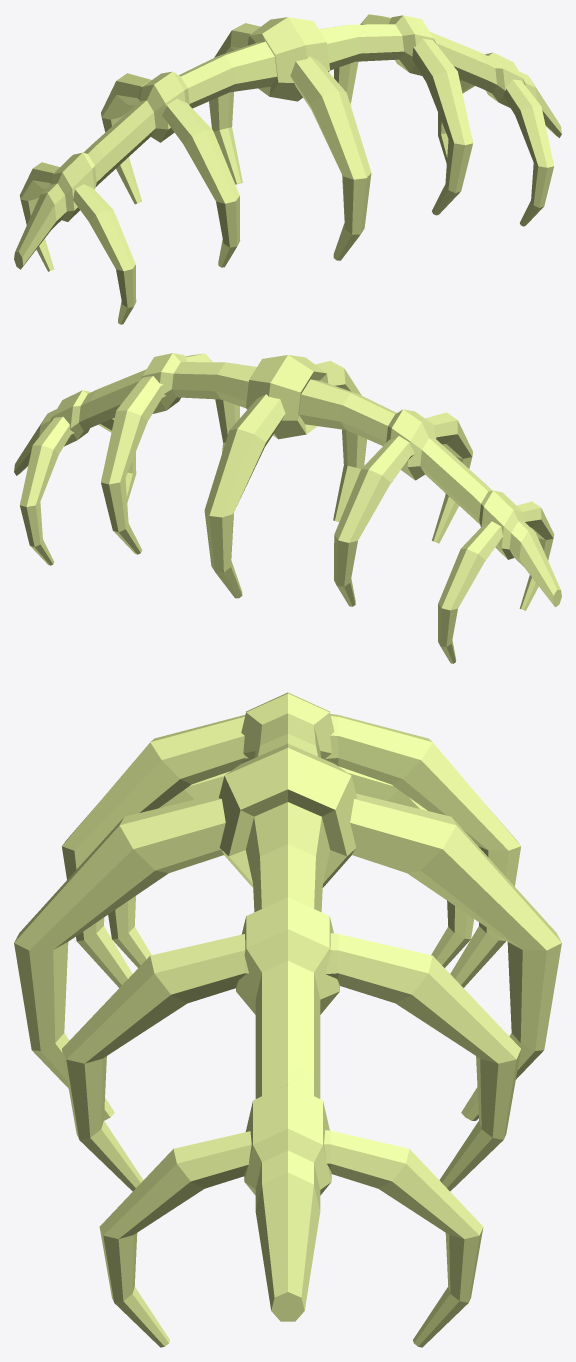
The model's file is rib1.fbx.
The picture shows the model from 3 angles, top to bottom: view 1: azimuth 30°, elevation 25°; view 2: azimuth 150°, elevation 25°; view 3: azimuth 270°, elevation 25°; orthographic projection. The views are drawn at different scales.
Parts seen in each view (by area): view 1: Ribcage1; view 2: Ribcage1; view 3: Ribcage1.
Part boxes in pixels (left/top/right/bottom): Ribcage1: left=14, top=14, right=561, bottom=324; Ribcage1: left=14, top=353, right=561, bottom=663; Ribcage1: left=14, top=692, right=561, bottom=1347.
Bounding box in the file's own units: 3397 × 1400 × 1652.
